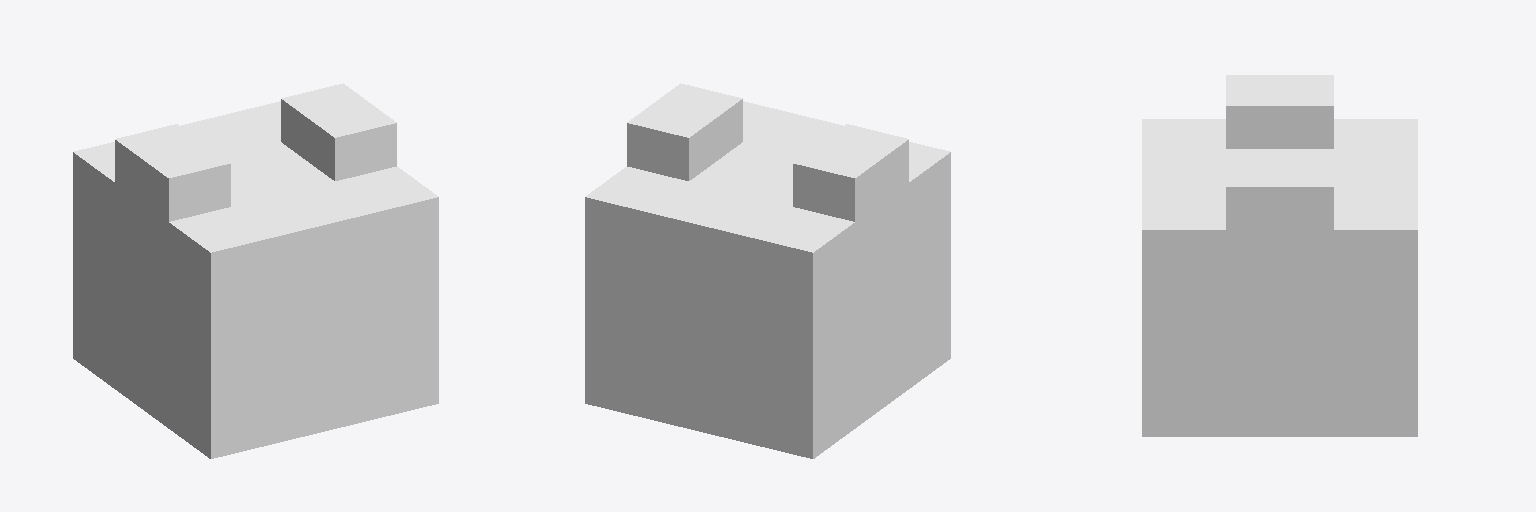
The model's file is manggom-0.obj.
3 views of the same model, side by side, from view 1: azimuth 30°, elevation 25°; view 2: azimuth 150°, elevation 25°; view 3: azimuth 270°, elevation 25° (orthographic).
Parts seen in each view (by area): view 1: object 1; view 2: object 1; view 3: object 1.
Boxes of the visible parts, x1,y1,x2,y2 form: object 1: [73, 83, 438, 458]; object 1: [585, 83, 950, 458]; object 1: [1142, 75, 1417, 436].
Size of the model in its own units: 2.2 by 2.3 by 2.3.